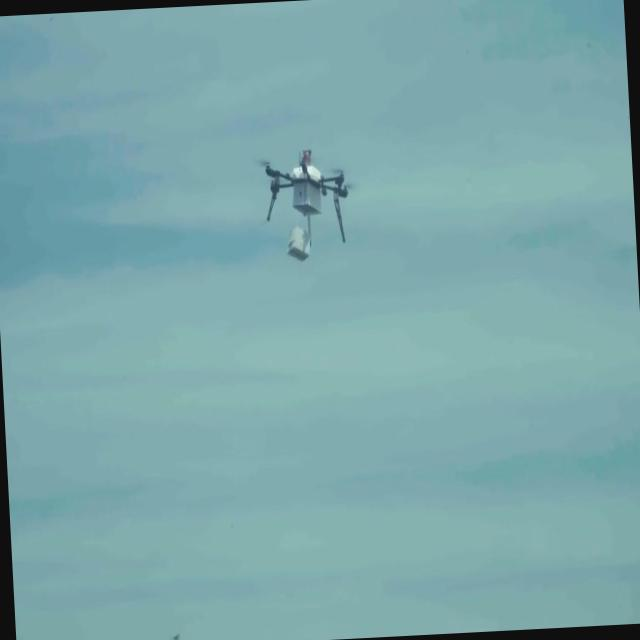drone: (254, 147, 358, 265)
